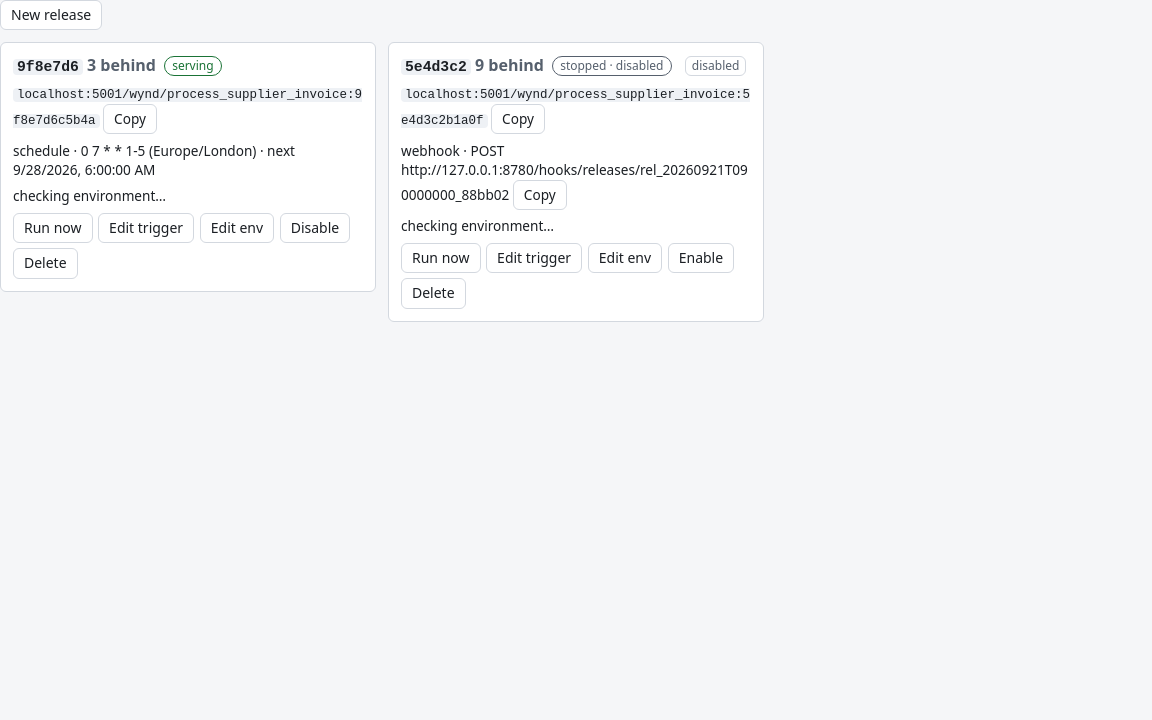
Scenario: ReleasesPanel › Disable patches enabled; Delete asks first
The width and height of the screenshot is (1152, 720).
Check: the element named "Release 9f8e7d6" is shown, box top-left (0, 42), bottom-right (376, 292)
Click the button "Disable": (315, 228) top-left (280, 212), bottom-right (350, 243)
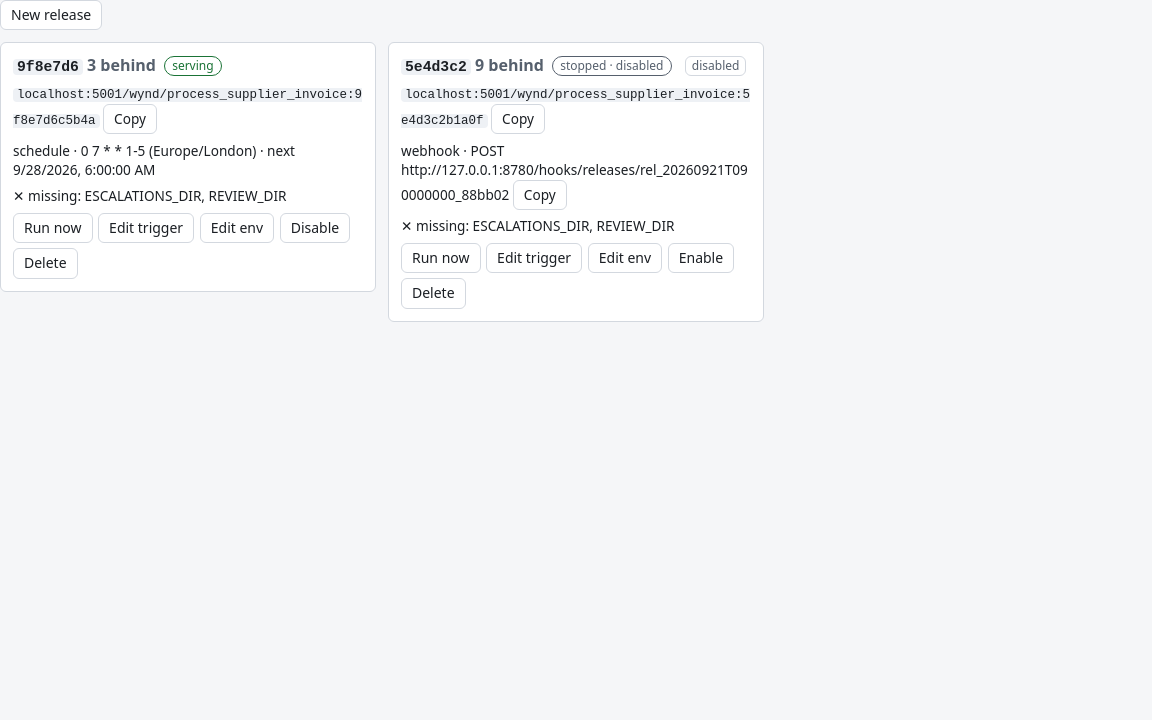
Click the button "Delete" below "9 behind": (433, 294) top-left (401, 278), bottom-right (466, 309)
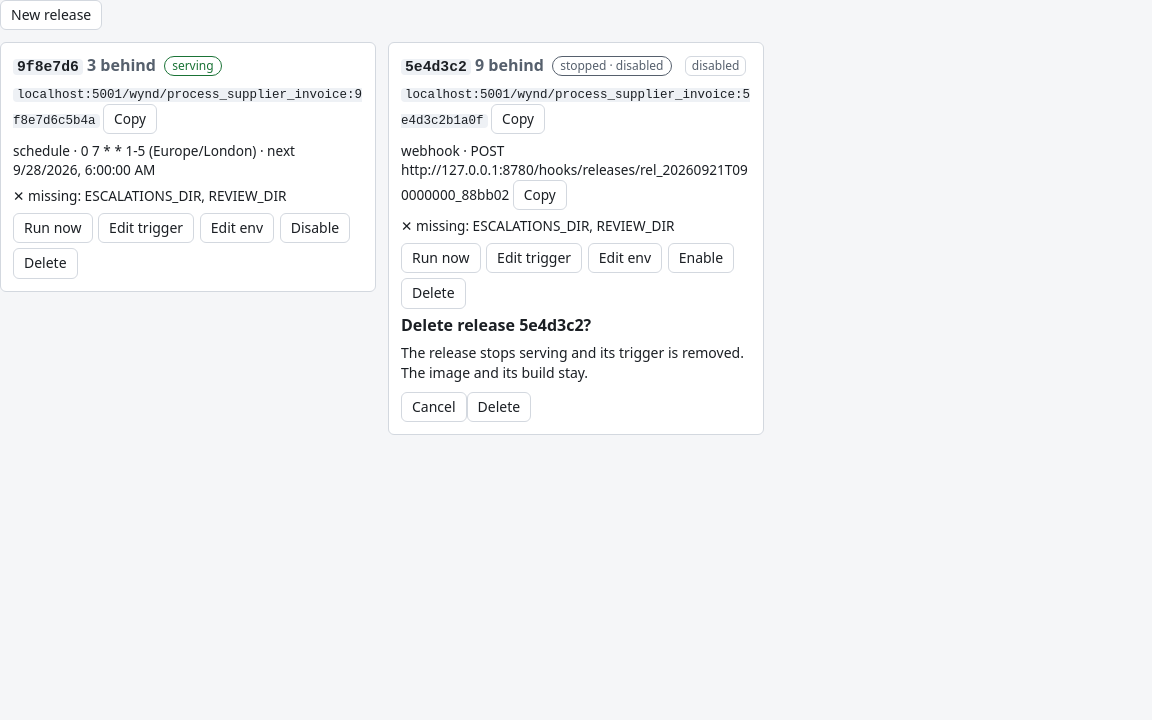
Click the button "Delete" below "Delete release 5e4d3c2?": (499, 407) top-left (467, 392), bottom-right (531, 422)
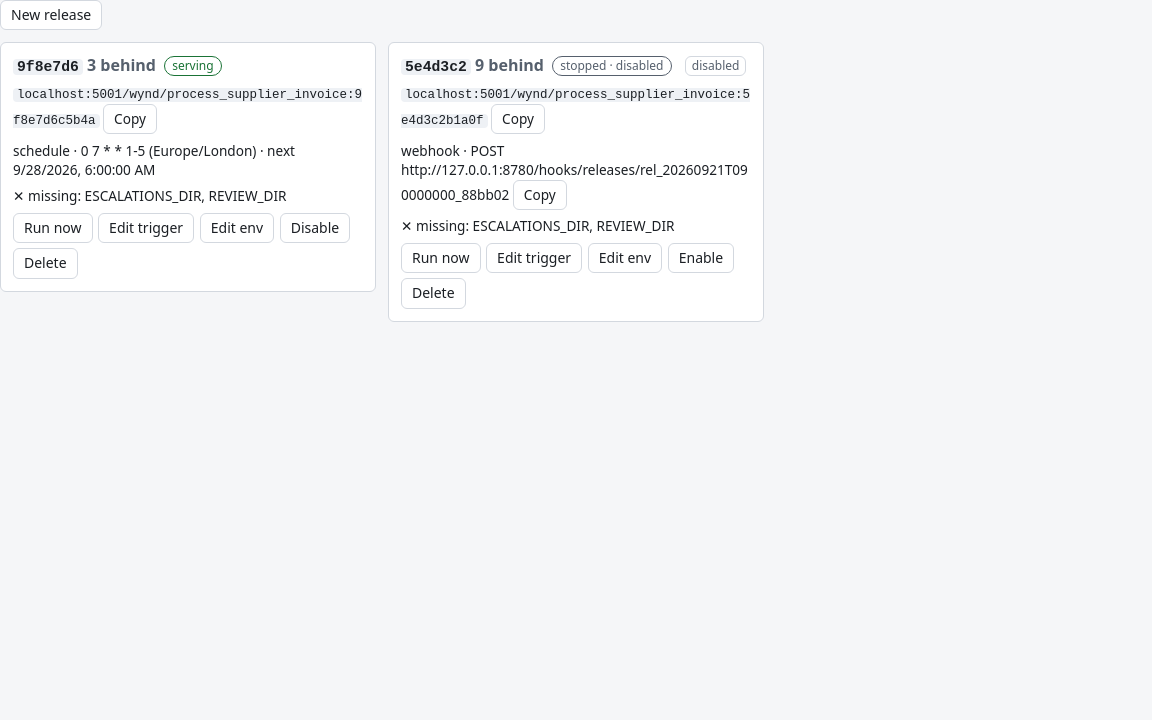
Check: the dialog is gone
